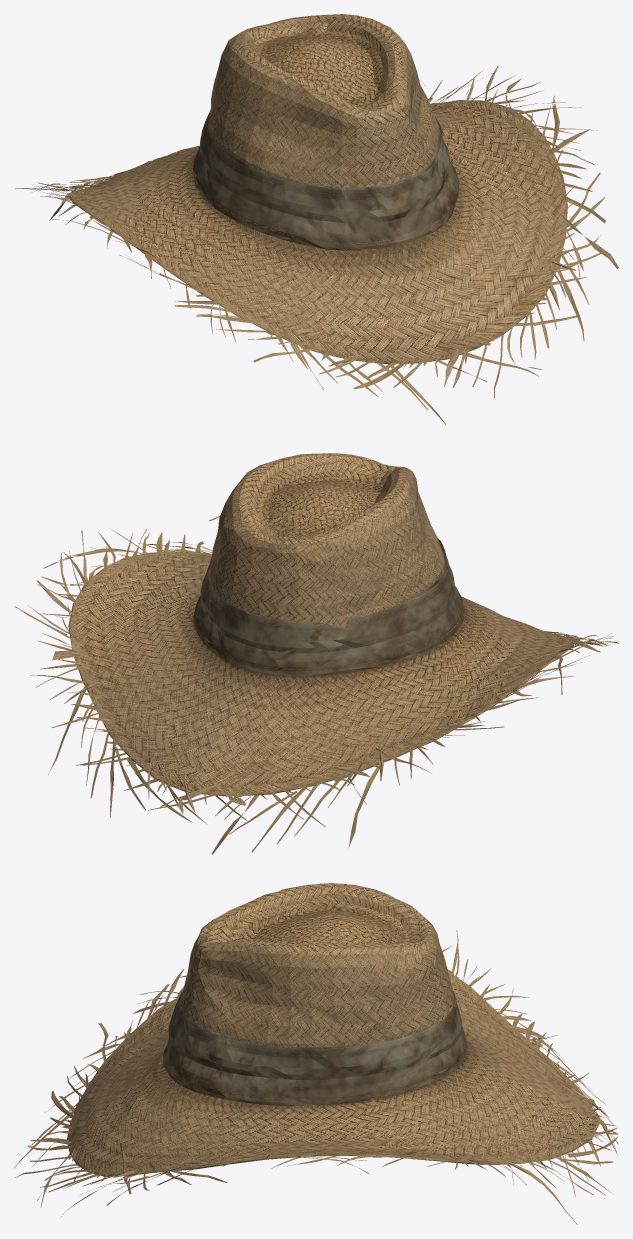
File: ewm_strawhat.glb
3 views of the same model, one above another, from view 1: azimuth 30°, elevation 25°; view 2: azimuth 150°, elevation 25°; view 3: azimuth 270°, elevation 25° (orthographic).
Parts seen in each view (by area): view 1: ewm_strawhat; view 2: ewm_strawhat; view 3: ewm_strawhat.
Boxes of the visible parts, <box> form: ewm_strawhat: <box>15,14,618,424</box>; ewm_strawhat: <box>14,453,618,854</box>; ewm_strawhat: <box>14,883,618,1224</box>.
Size of the model in its own units: 0.4061 by 0.1989 by 0.4088.
Materials: 1 (1 with a texture image).
